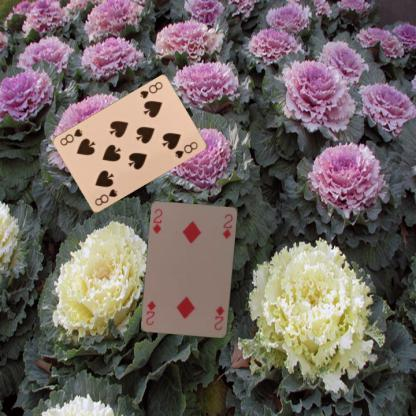2d: (211, 303, 226, 332), (150, 206, 164, 235)
8s: (92, 186, 118, 208), (138, 79, 164, 100)
